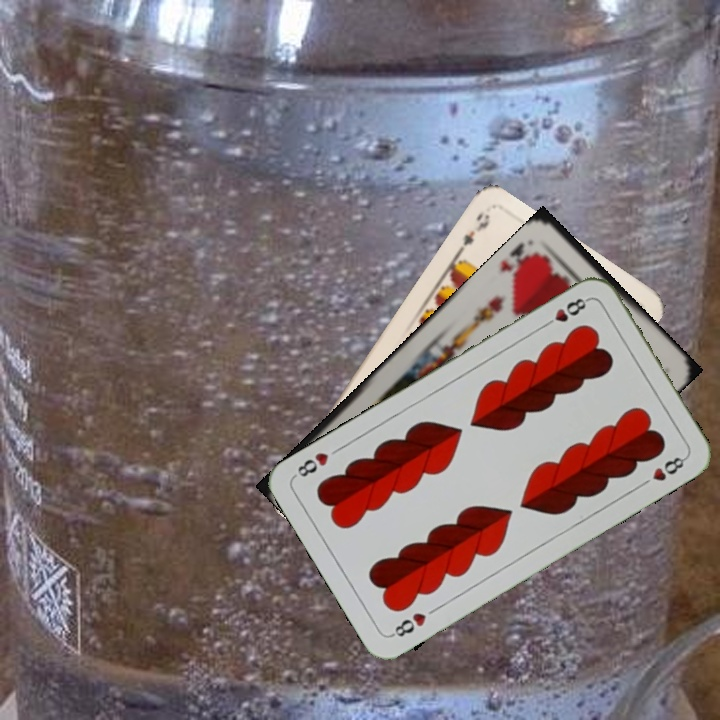E9: (453, 208, 493, 258)
H8: (539, 293, 592, 331), (387, 608, 429, 640)
HK: (495, 238, 542, 284)
